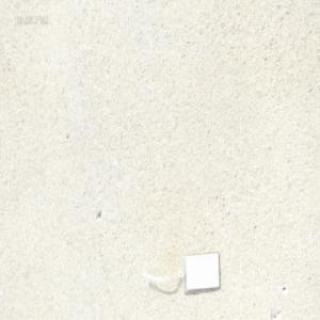LuggageTagtrack_idkeyframe: (136, 248, 218, 293)
